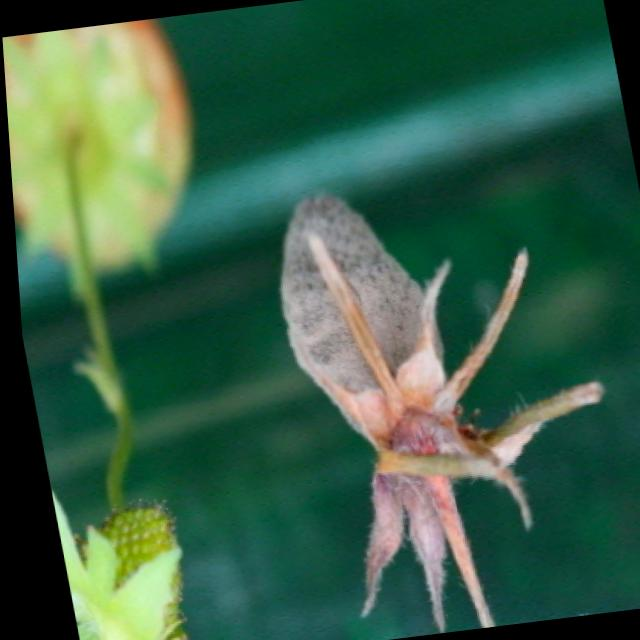Gray Mold: (273, 191, 519, 633)
